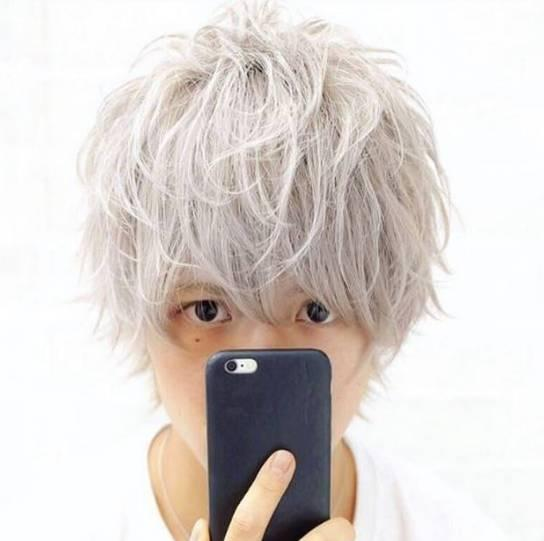face: (152, 195, 373, 485)
